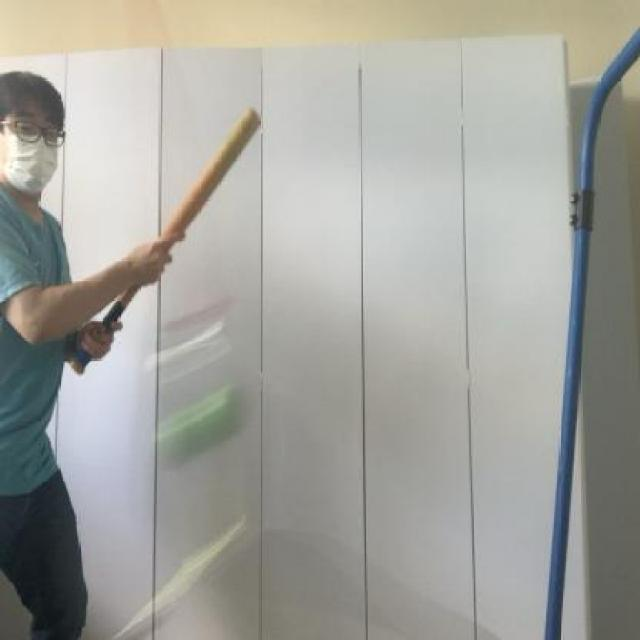baseball: (138, 386, 258, 468)
